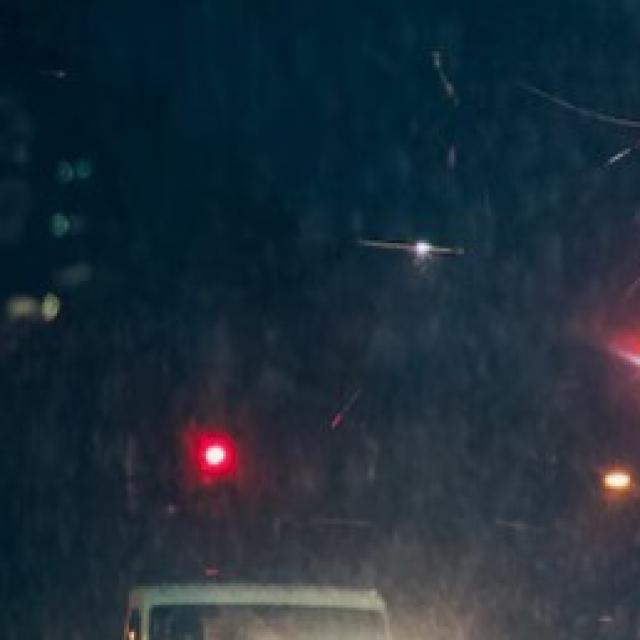bus: (632, 537, 640, 639)
car: (49, 580, 414, 640), (496, 626, 640, 640)
